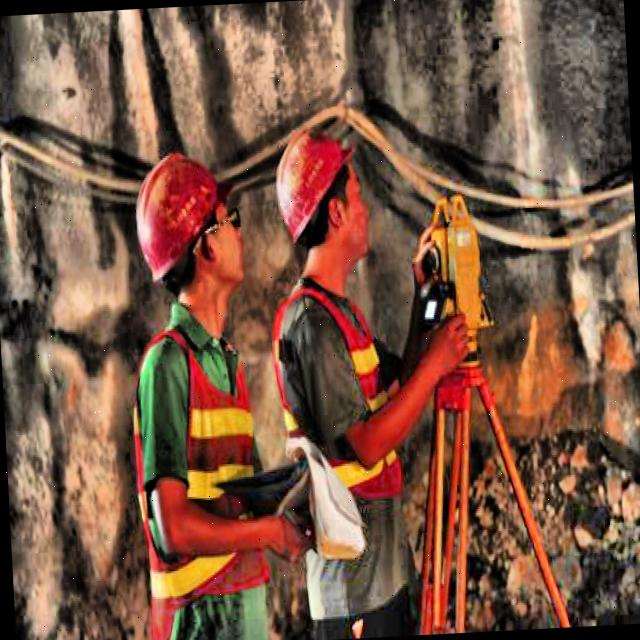helmet: (123, 138, 240, 308), (264, 118, 376, 282)
